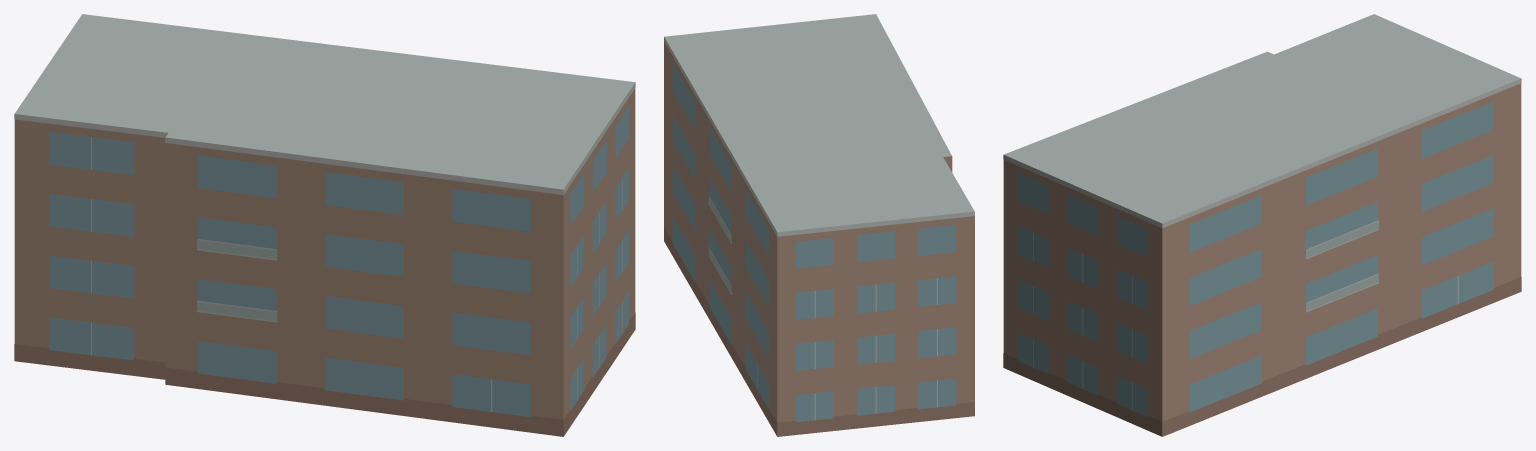
File: survey-upis-32773237.glb
3 views of the same model, side by side, from view 1: azimuth 30°, elevation 25°; view 2: azimuth 150°, elevation 25°; view 3: azimuth 270°, elevation 25° (orthographic). The views are drawn at different scales.
Parts seen in each view (by area): view 1: survey-upis-32773237.tmp; view 2: survey-upis-32773237.tmp; view 3: survey-upis-32773237.tmp.
Boxes of the visible parts, bbox=[...] form: survey-upis-32773237.tmp: bbox=[14, 14, 635, 436]; survey-upis-32773237.tmp: bbox=[664, 14, 974, 436]; survey-upis-32773237.tmp: bbox=[1003, 14, 1521, 436].
Bounding box in the file's own units: 23.29 × 11.04 × 24.31.
